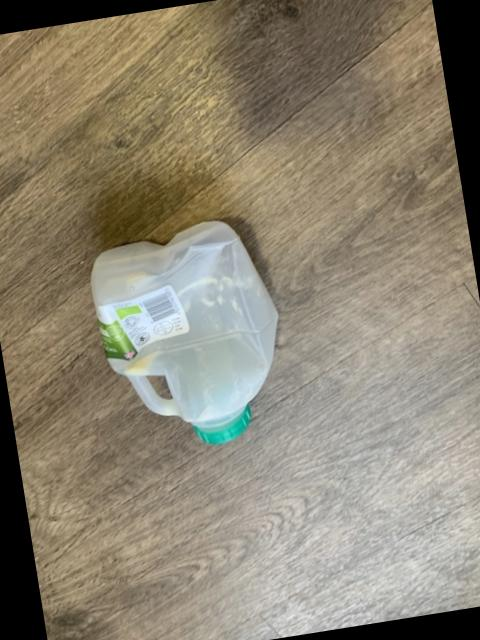plastic: (90, 223, 276, 445)
